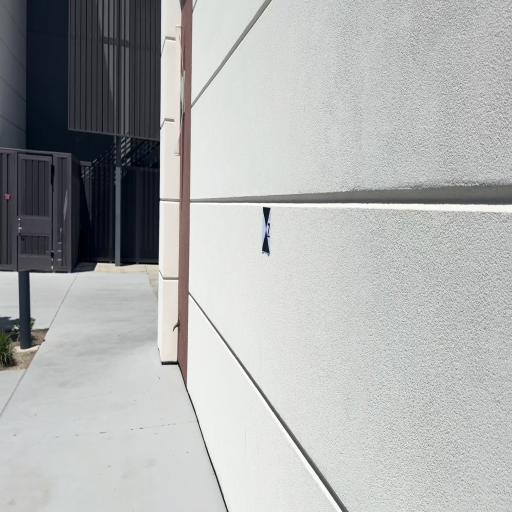target7: (262, 206, 271, 255)
